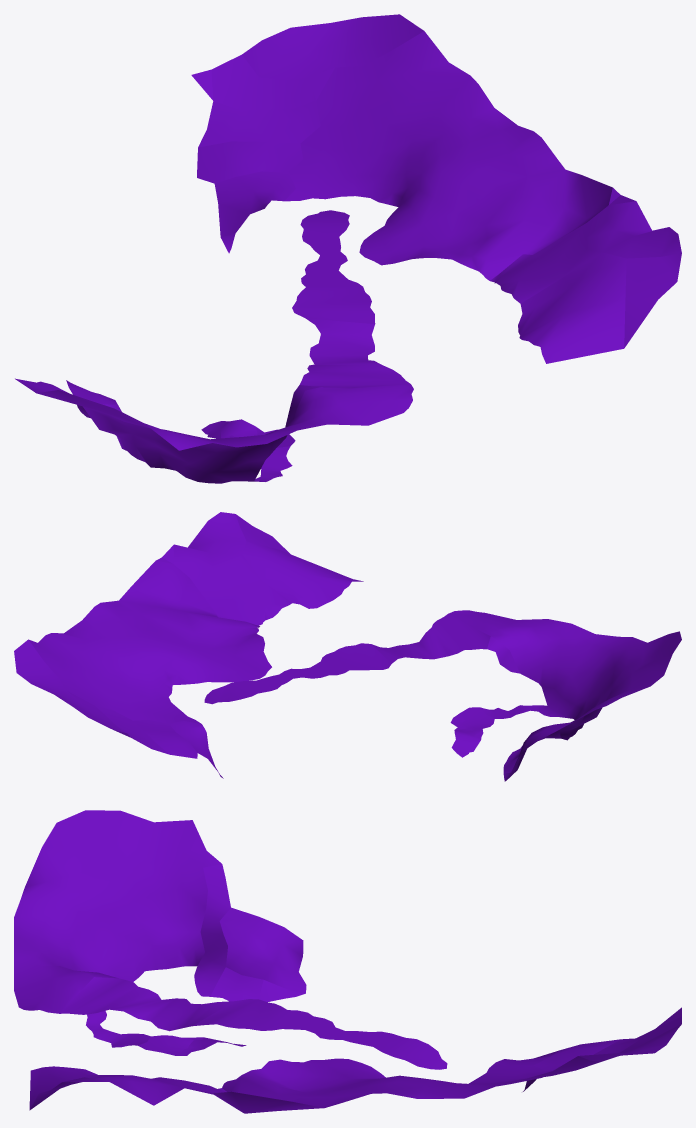
File: cluster_2.fbx
3 renders of one model, top to bottom at view 1: azimuth 30°, elevation 25°; view 2: azimuth 150°, elevation 25°; view 3: azimuth 270°, elevation 25°, orthographic. The views are drawn at different scales.
Visible parts, largest first — view 1: cluster_2; view 2: cluster_2; view 3: cluster_2.
Part boxes in pixels (left/top/right/bottom): cluster_2: left=15, top=14, right=681, bottom=483; cluster_2: left=14, top=512, right=681, bottom=781; cluster_2: left=14, top=810, right=681, bottom=1113.
Size of the model in its own units: 2440000 by 685181 by 2320019.
